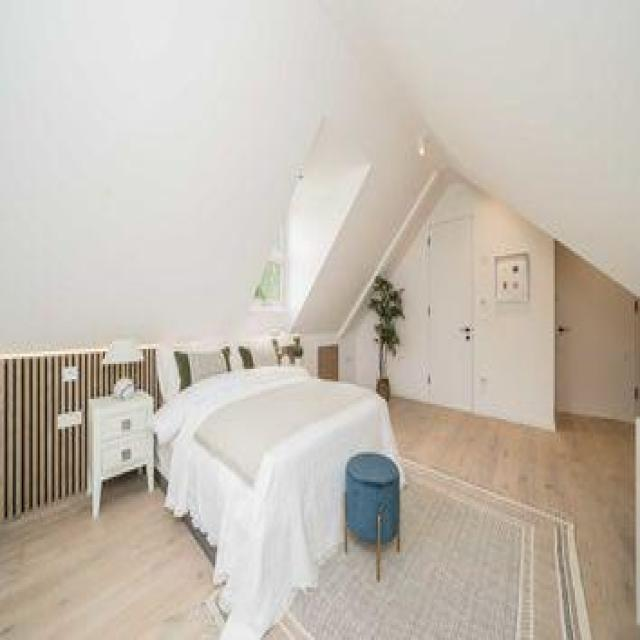Wall: (0, 1, 640, 348), (266, 399, 640, 638), (0, 475, 224, 639), (0, 347, 157, 520), (289, 121, 372, 324), (474, 233, 554, 428), (287, 161, 371, 322), (474, 200, 554, 318), (388, 217, 434, 400), (340, 307, 376, 384), (430, 182, 489, 223)
